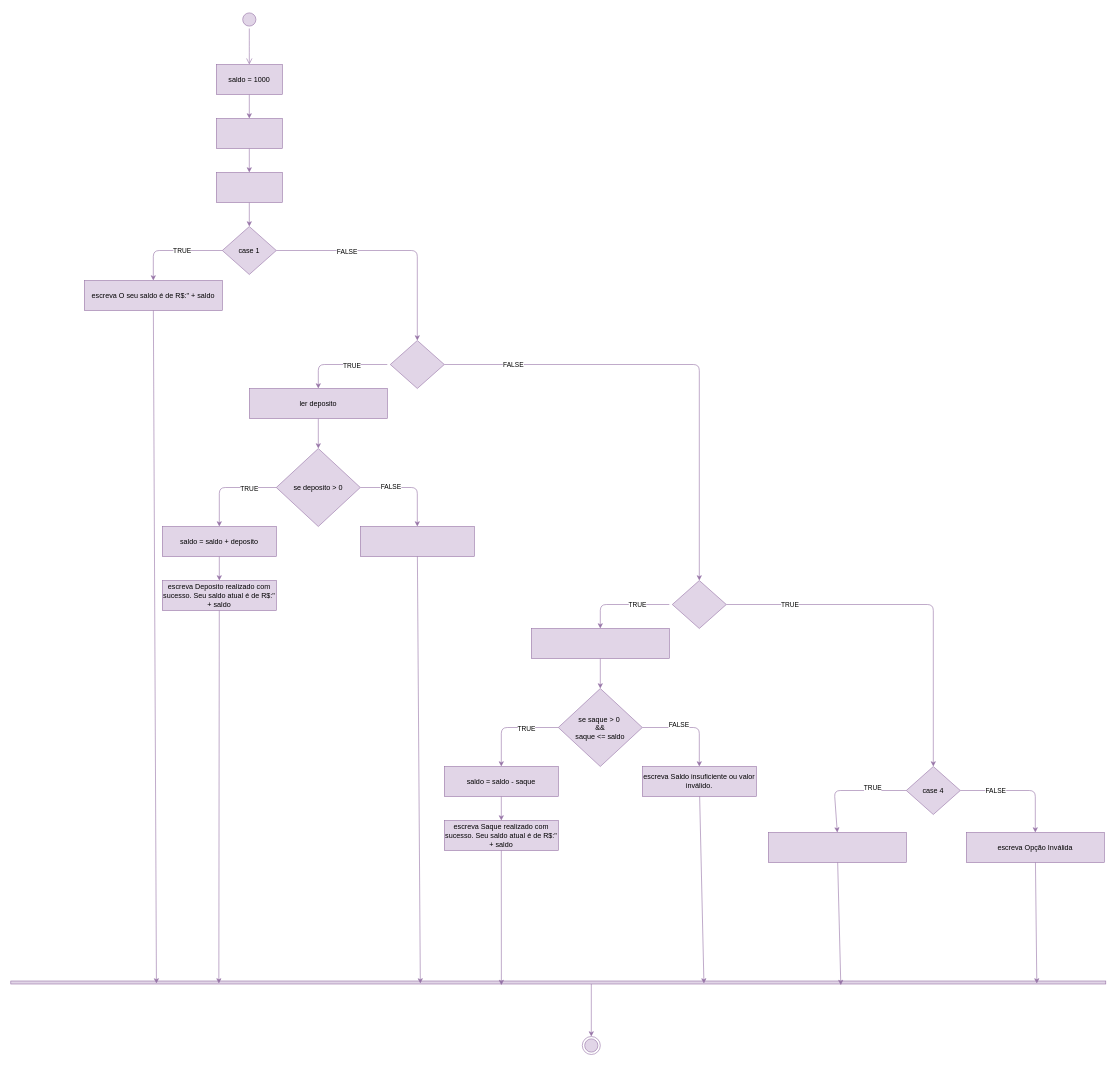
Some shapes in this 1116 by 1065 pixel diagram are drawn without their labels. The shapes that lost their labels are listed below. From the top down, each one's centre as x and y in pixels, then its label:
At [249,133]: "ler opcao".
At [249,187]: "switch opcao".
At [417,364]: "case 2".
At [417,541]: "escreva Valor de deposito inválido!!!".
At [699,604]: "case 3".
At [600,643]: "ler saque".
At [837,847]: "escreva saindo...".
